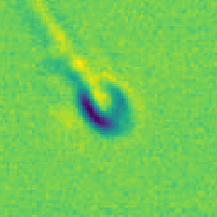normal: (18, 1, 94, 82)
